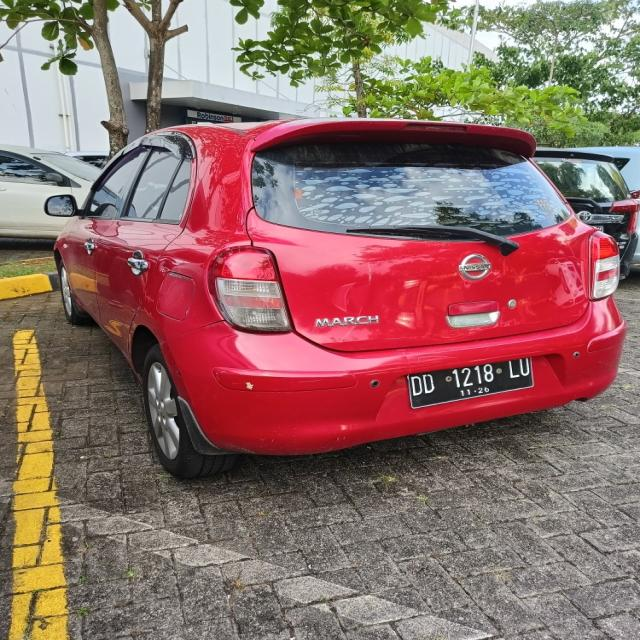plates: (399, 364, 544, 406)
